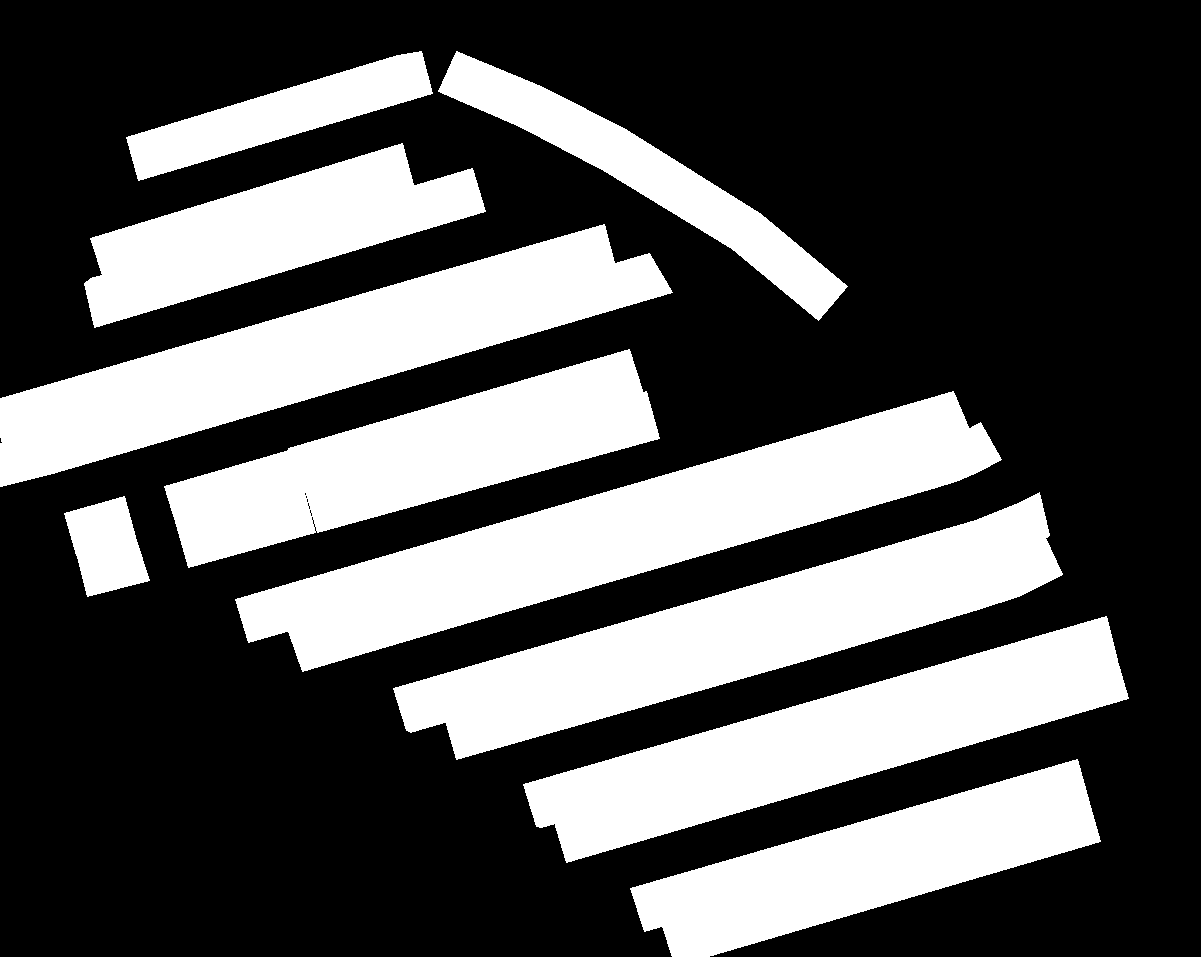parkingspot: (235, 391, 969, 642), (288, 422, 1001, 671), (393, 492, 1049, 732), (0, 253, 672, 486), (444, 535, 1062, 759), (0, 224, 615, 443), (523, 616, 1117, 827), (553, 657, 1128, 862), (438, 51, 847, 320), (630, 759, 1089, 931), (661, 799, 1100, 957), (84, 168, 485, 327), (288, 349, 643, 493), (305, 391, 659, 532), (90, 143, 414, 281), (126, 51, 432, 180), (164, 449, 303, 528), (176, 489, 315, 567), (76, 537, 149, 596), (64, 496, 136, 555)
